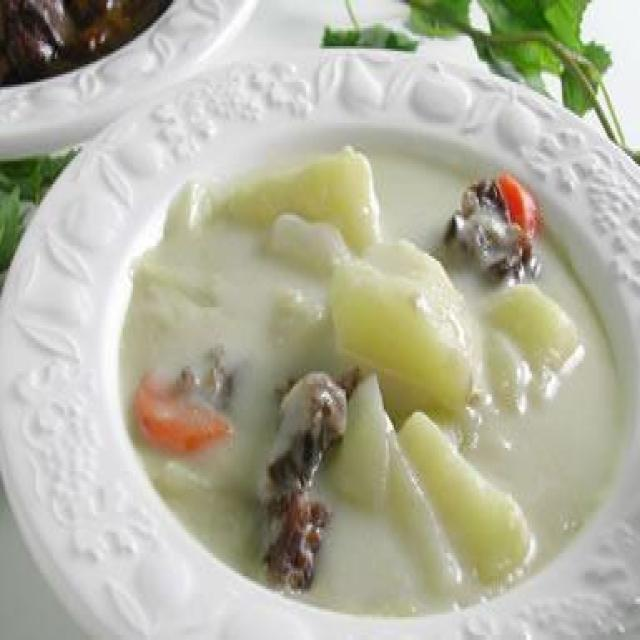汤锅炖物: (0, 41, 638, 640)
